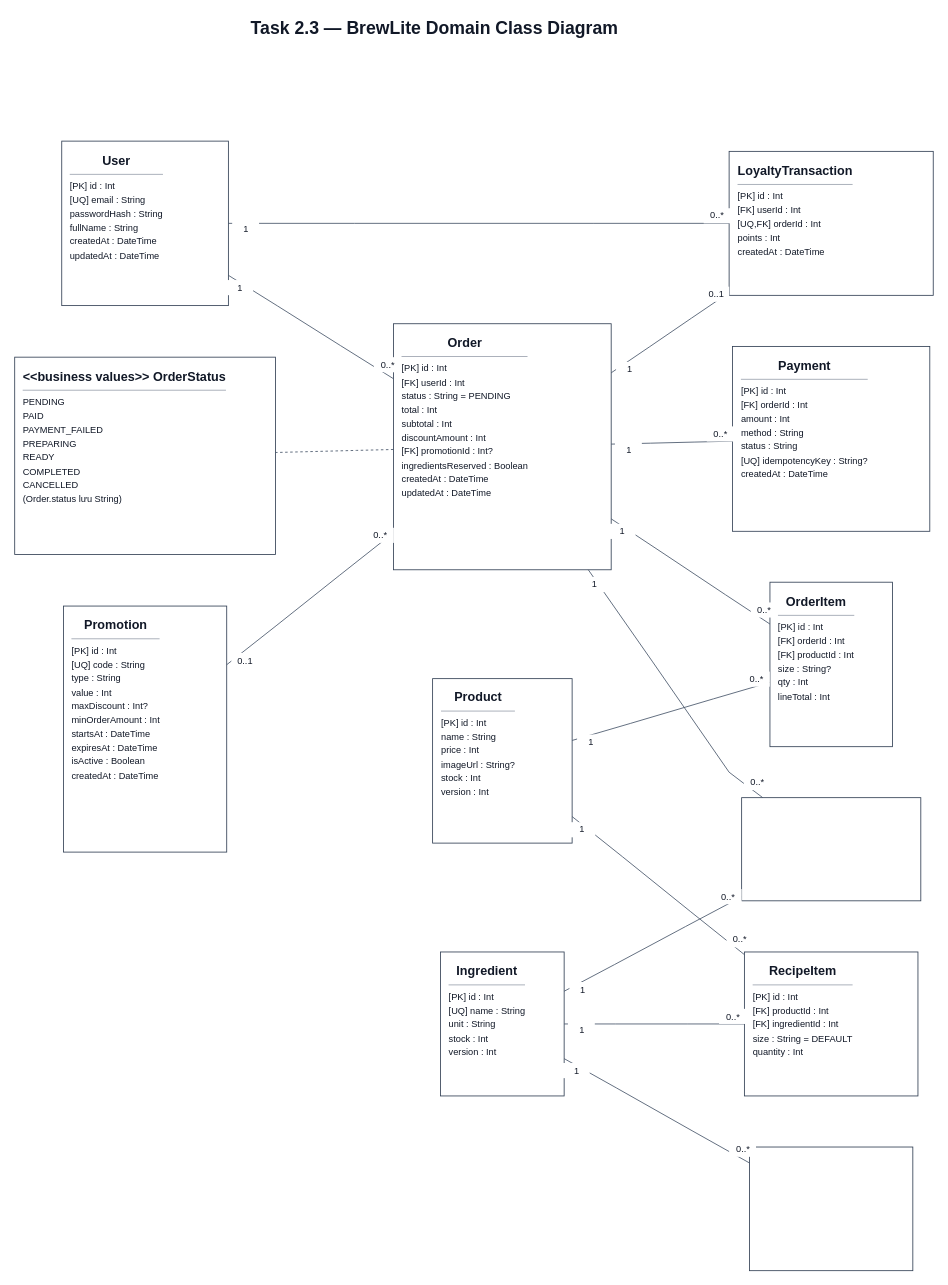
Some shapes in this 948 by 1285 pixel diagram are drawn without their labels. Each missing label, with the box of its shape:
OrderIngredient [PK,FK] orderId : Int [PK,FK] ingredientId : Int quantity : Int: (741, 797, 921, 901)
ToppingRecipe [PK] id : Int name : String [FK] ingredientId : Int quantity : Int: (749, 1146, 913, 1271)
